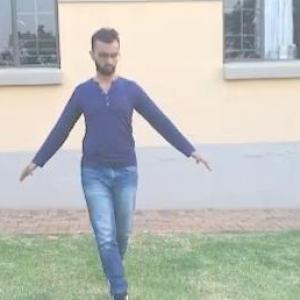land: (24, 7, 213, 292)
